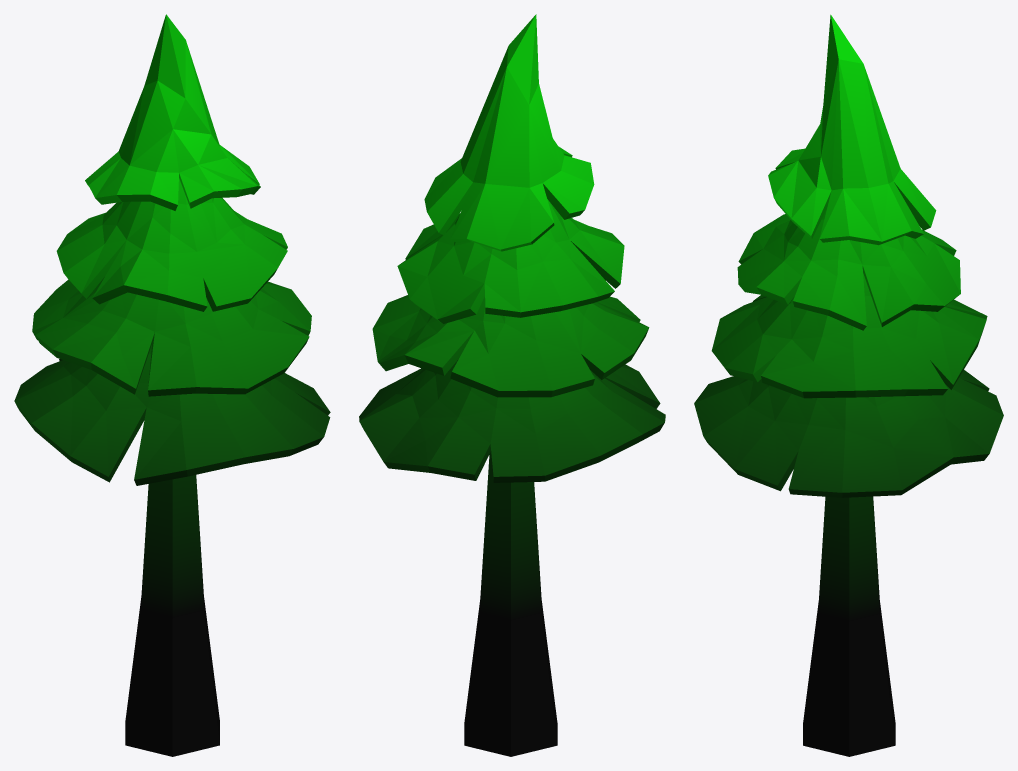
The model's file is SM_Tree_Pine_05.fbx.
3 renders of one model, left to right at view 1: azimuth 30°, elevation 25°; view 2: azimuth 150°, elevation 25°; view 3: azimuth 270°, elevation 25°, orthographic. The views are drawn at different scales.
Parts seen in each view (by area): view 1: SM_Tree_Pine_05_LOD0; view 2: SM_Tree_Pine_05_LOD0; view 3: SM_Tree_Pine_05_LOD0.
Boxes of the visible parts, x1,y1,x2,y2 form: SM_Tree_Pine_05_LOD0: [14, 14, 330, 756]; SM_Tree_Pine_05_LOD0: [359, 14, 665, 756]; SM_Tree_Pine_05_LOD0: [694, 14, 1003, 756].
Bounding box in the file's own units: 221 × 559 × 220.
